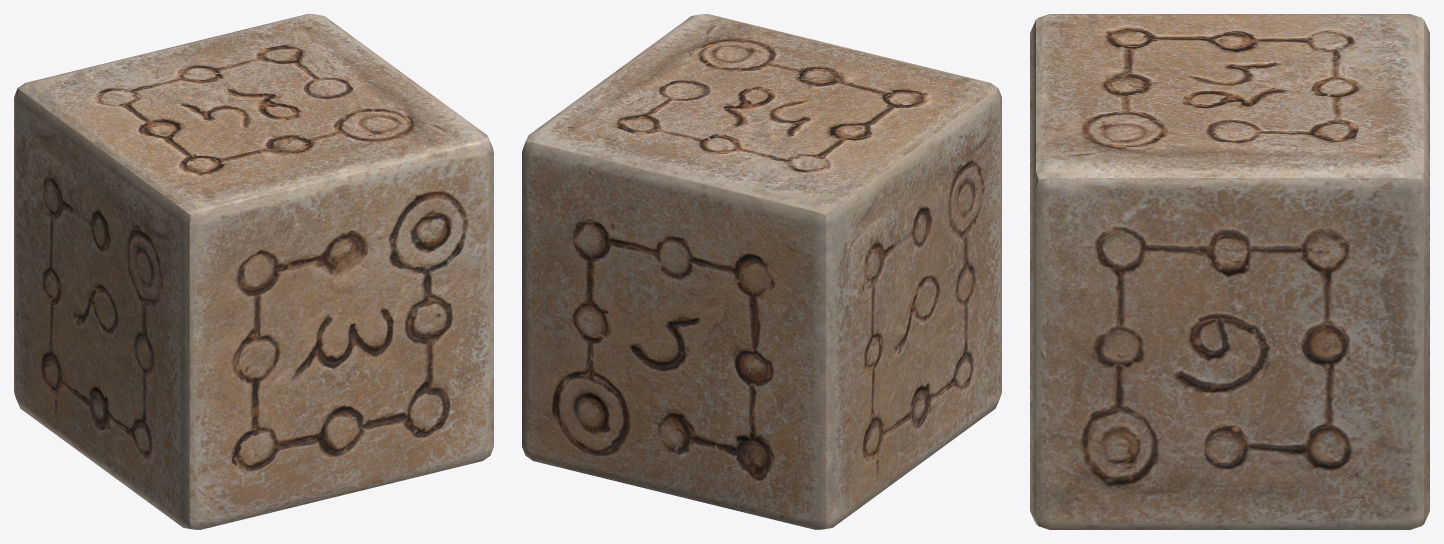
3 renders of one model, left to right at view 1: azimuth 30°, elevation 25°; view 2: azimuth 150°, elevation 25°; view 3: azimuth 270°, elevation 25°, orthographic. The views are drawn at different scales.
Parts seen in each view (by area): view 1: pCube1; view 2: pCube1; view 3: pCube1.
Part boxes in pixels (x1,y1,x2,y2): pCube1: (14, 14, 493, 529); pCube1: (522, 14, 1001, 529); pCube1: (1030, 14, 1429, 529).
Bounding box in the file's own units: 5 × 5 × 5.
